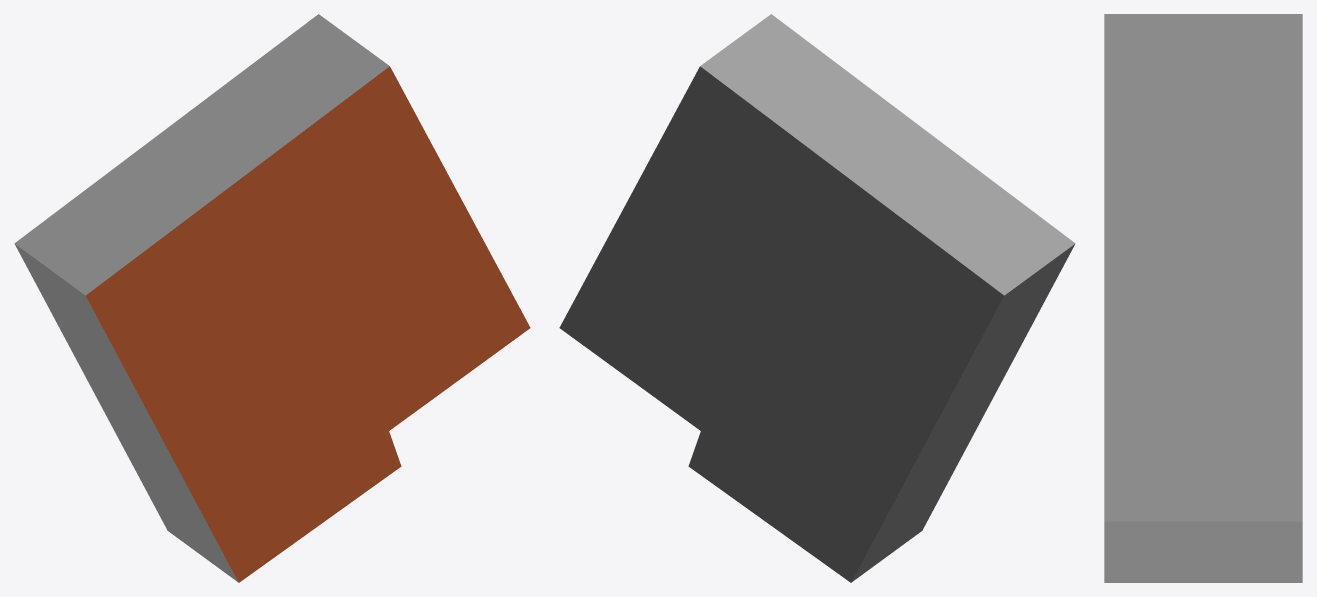
The model's file is construction_5922_assumed_A_Casa_h6m.obj.
3 views of the same model, side by side, from view 1: azimuth 30°, elevation 25°; view 2: azimuth 150°, elevation 25°; view 3: azimuth 270°, elevation 25° (orthographic). The views are drawn at different scales.
Parts seen in each view (by area): view 1: construction_5922_assumed_A_Casa; view 2: construction_5922_assumed_A_Casa; view 3: construction_5922_assumed_A_Casa.
Part boxes in pixels (x1,y1,x2,y2): construction_5922_assumed_A_Casa: [14, 14, 530, 582]; construction_5922_assumed_A_Casa: [559, 14, 1075, 582]; construction_5922_assumed_A_Casa: [1104, 14, 1302, 582].
Bounding box in the file's own units: 21.62 × 22.28 × 6.
